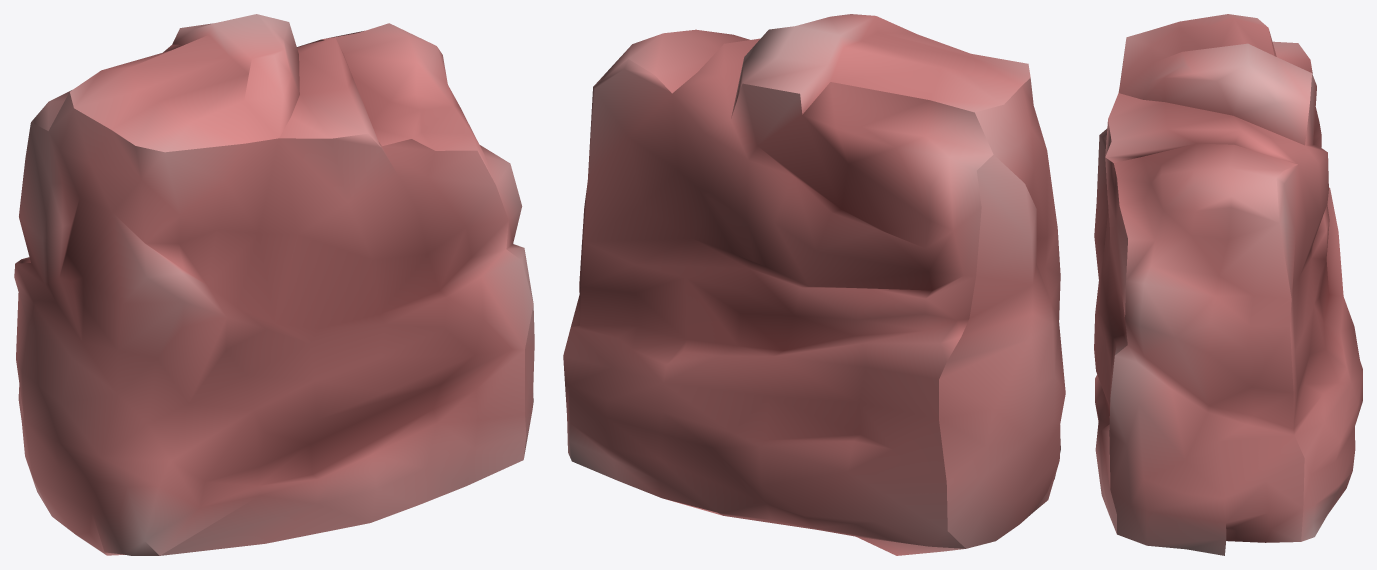
The model's file is env_rocks_bigrock01.fbx.
3 views of the same model, side by side, from view 1: azimuth 30°, elevation 25°; view 2: azimuth 150°, elevation 25°; view 3: azimuth 270°, elevation 25° (orthographic). The views are drawn at different scales.
Visible parts, largest first — view 1: _submesh5.001; view 2: _submesh5.001; view 3: _submesh5.001.
Boxes of the visible parts, box(x1,y1,x2,y2) form: _submesh5.001: box(14, 14, 534, 555); _submesh5.001: box(563, 14, 1065, 555); _submesh5.001: box(1094, 14, 1362, 555).
Bounding box in the file's own units: 32.53 × 32.57 × 18.45.
